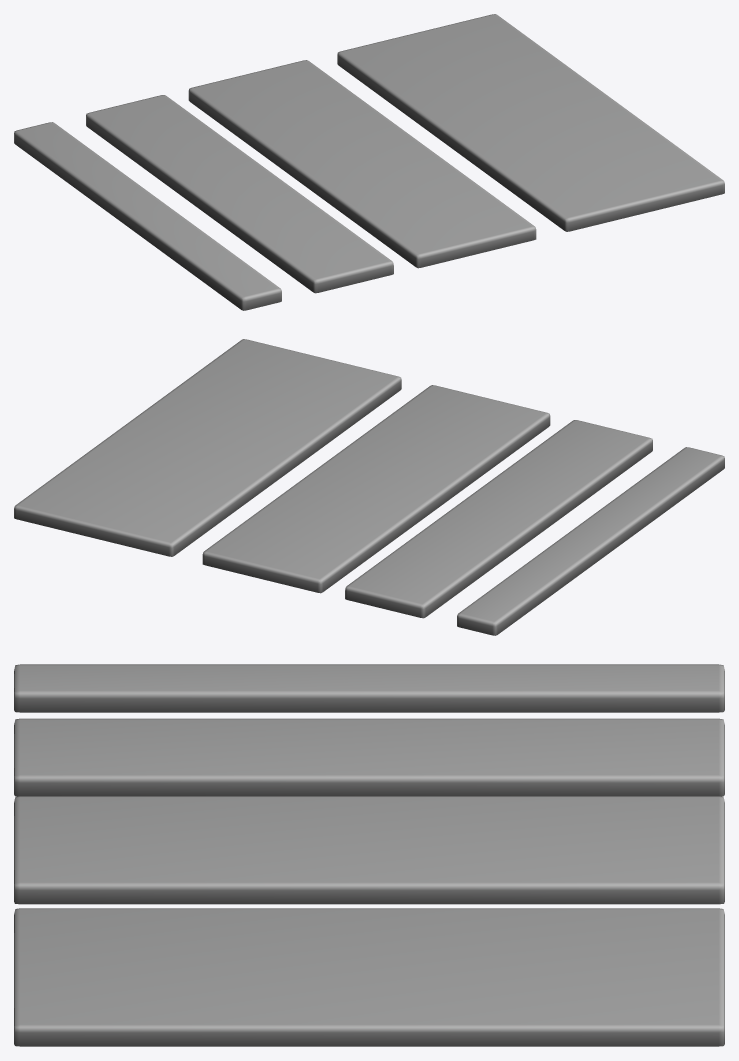
The model's file is Ground_10m.fbx.
3 renders of one model, top to bottom at view 1: azimuth 30°, elevation 25°; view 2: azimuth 150°, elevation 25°; view 3: azimuth 270°, elevation 25°, orthographic. The views are drawn at different scales.
Parts seen in each view (by area): view 1: 4x10 Ground, 3x10 Ground, 2x10 Ground, 1x10 Ground; view 2: 4x10 Ground, 3x10 Ground, 2x10 Ground, 1x10 Ground; view 3: 4x10 Ground, 3x10 Ground, 2x10 Ground, 1x10 Ground.
Part boxes in pixels (x1,y1,x2,y2): 4x10 Ground: (337, 14, 724, 231); 3x10 Ground: (188, 60, 536, 268); 2x10 Ground: (86, 95, 393, 293); 1x10 Ground: (14, 122, 281, 310); 4x10 Ground: (14, 339, 401, 556); 3x10 Ground: (202, 385, 550, 593); 2x10 Ground: (345, 420, 652, 618); 1x10 Ground: (457, 447, 724, 635); 4x10 Ground: (14, 908, 724, 1046); 3x10 Ground: (14, 796, 724, 904); 2x10 Ground: (14, 718, 724, 796); 1x10 Ground: (14, 664, 724, 712).
Bounding box in the file's own units: 1212 × 30 × 1000.
